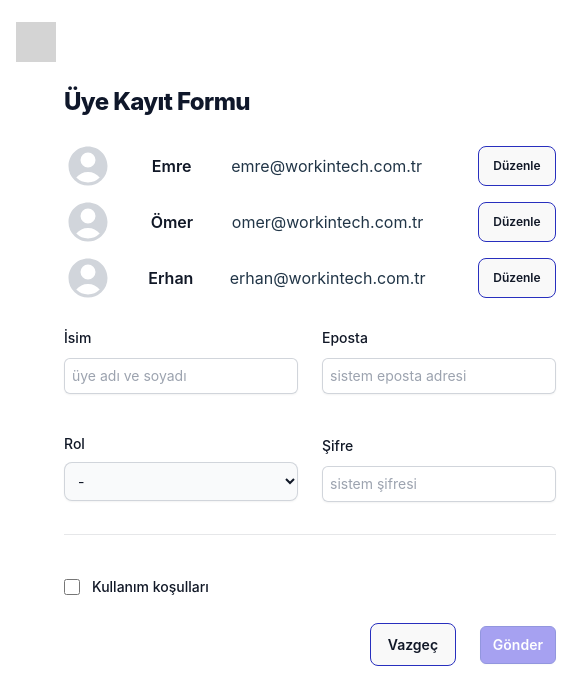
Test: Product Form Testleri › İsim inputuna bir isim girilir.
In the field with id "f_isim": (181,376) [64,358,298,394], type "AA"
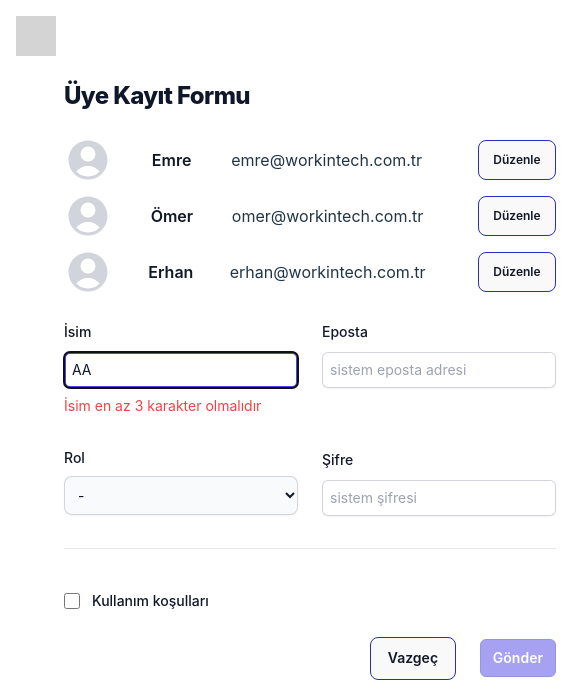
Result: the text with id "f_isim_error" reads "İsim en az 3 karakter olmalıdır" at [64,397,261,414]
